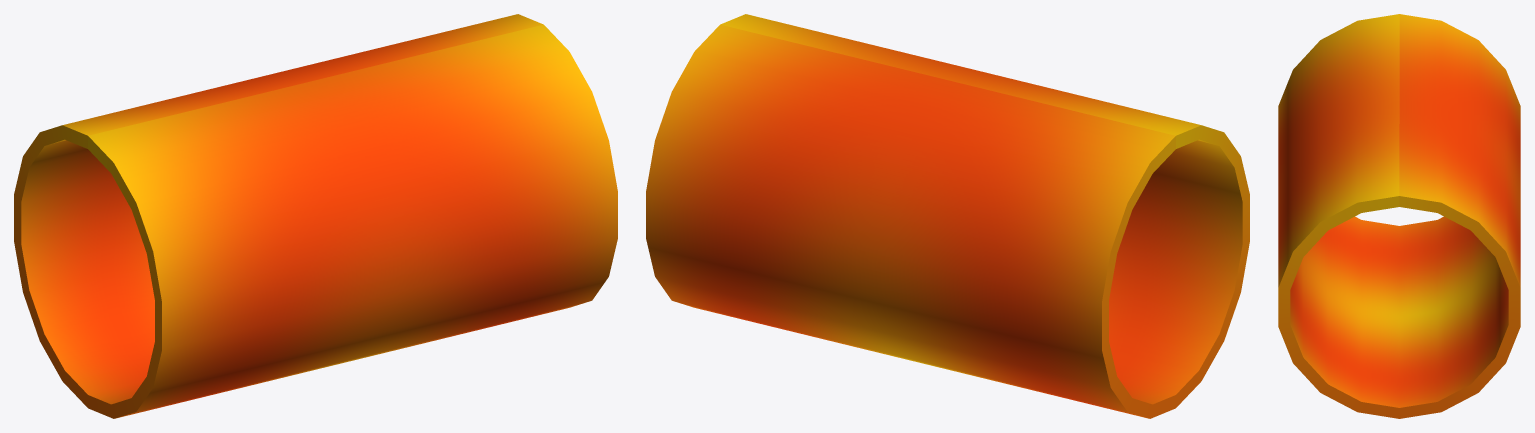
File: scenery_changer.FBX
The picture shows the model from 3 angles, left to right: view 1: azimuth 30°, elevation 25°; view 2: azimuth 150°, elevation 25°; view 3: azimuth 270°, elevation 25°; orthographic projection. The views are drawn at different scales.
Visible parts, largest first — view 1: Tube001; view 2: Tube001; view 3: Tube001.
Part boxes in pixels (left/top/right/bottom): Tube001: left=14, top=14, right=617, bottom=418; Tube001: left=646, top=14, right=1249, bottom=418; Tube001: left=1278, top=14, right=1520, bottom=418.
Bounding box in the file's own units: 11.67 × 6.67 × 6.57.
